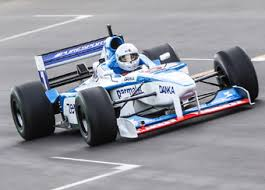f1_car: (7, 20, 265, 154)
